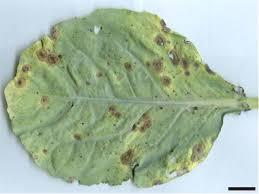Bok-Choy-Diseased: (2, 3, 216, 187)
